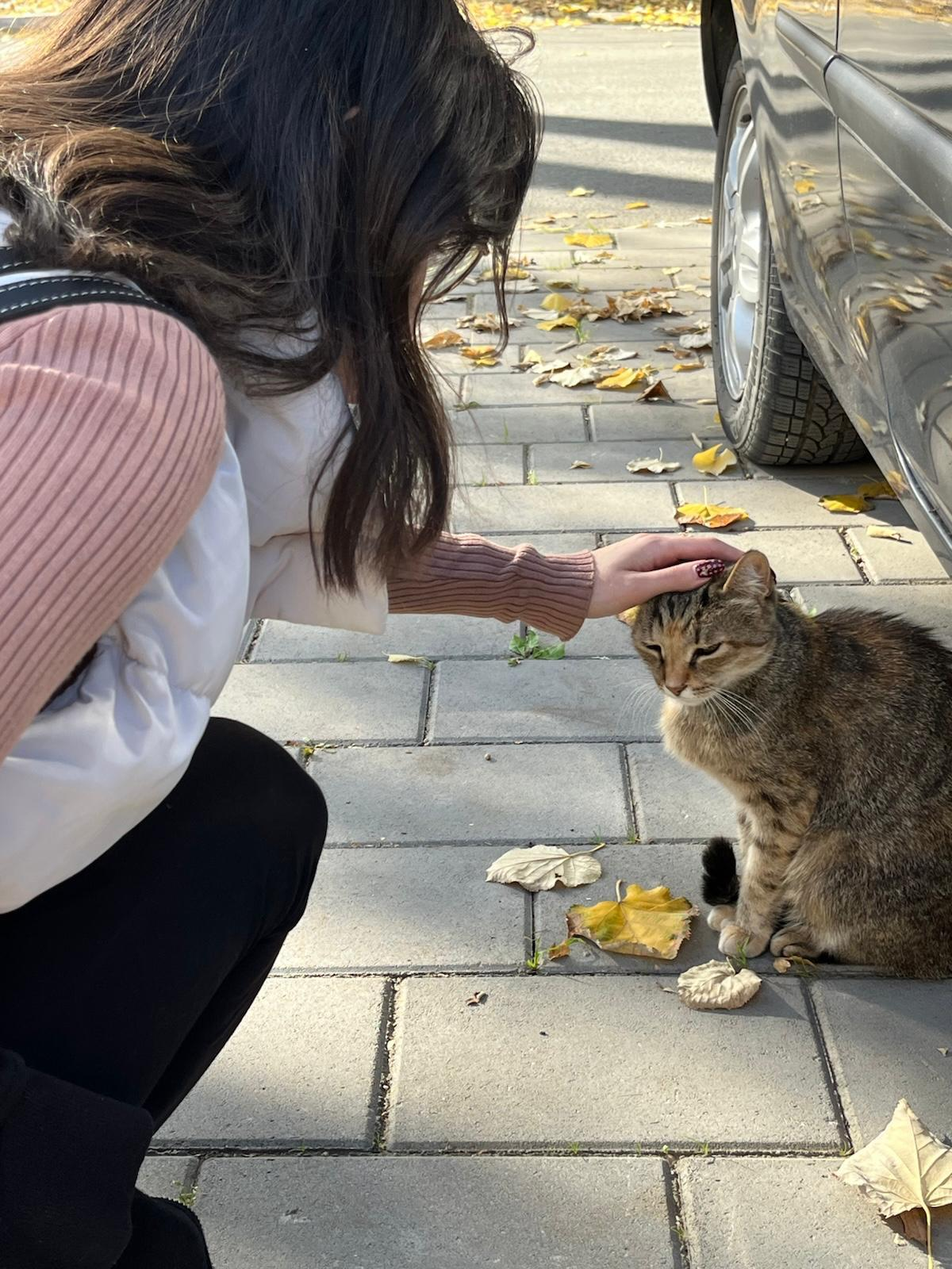macka: (631, 555, 951, 973)
